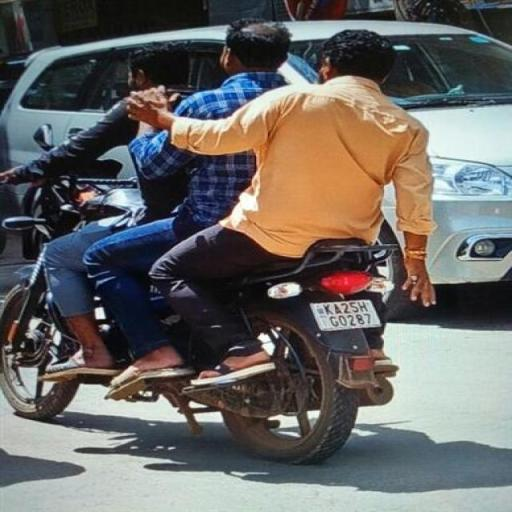tripple riding: (6, 18, 456, 286)
